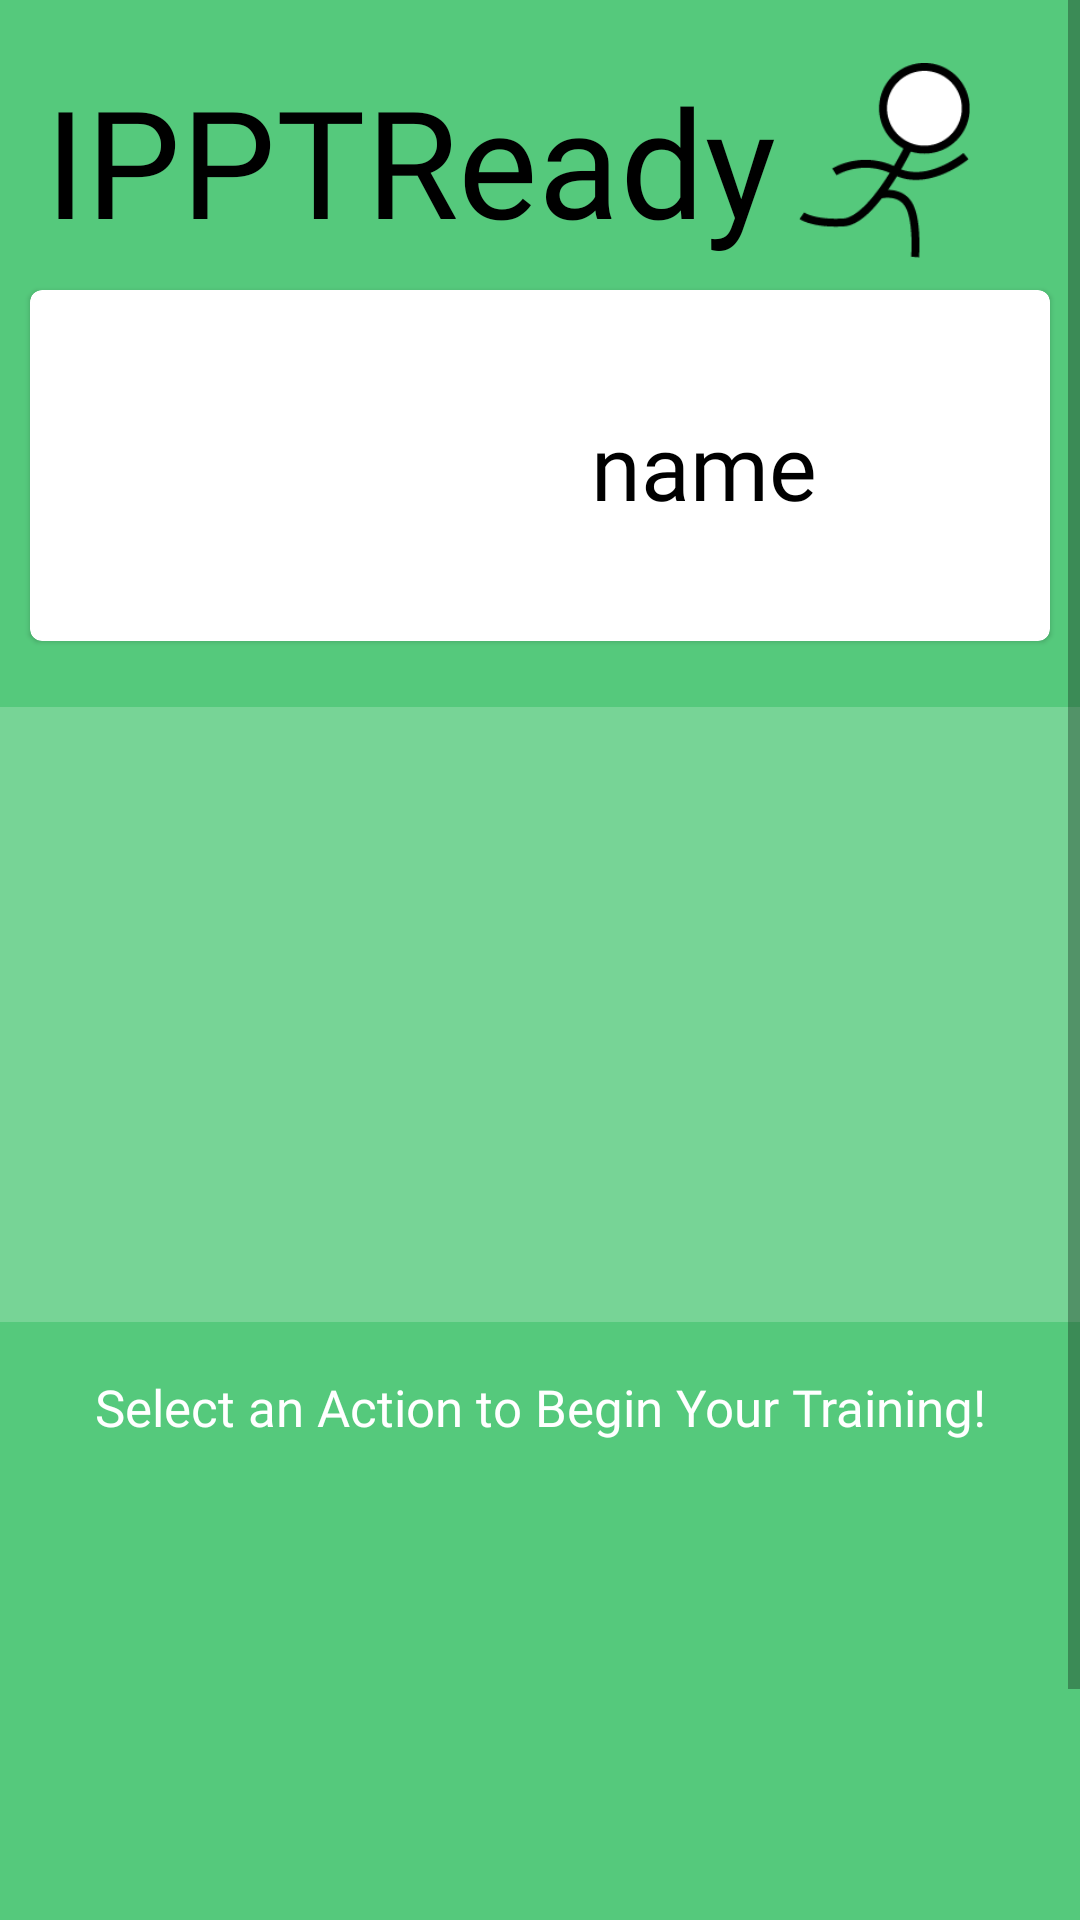

Where to tap for icons on this 1080 × 1920 app screen, as [x,y]:
man: [884,160]
